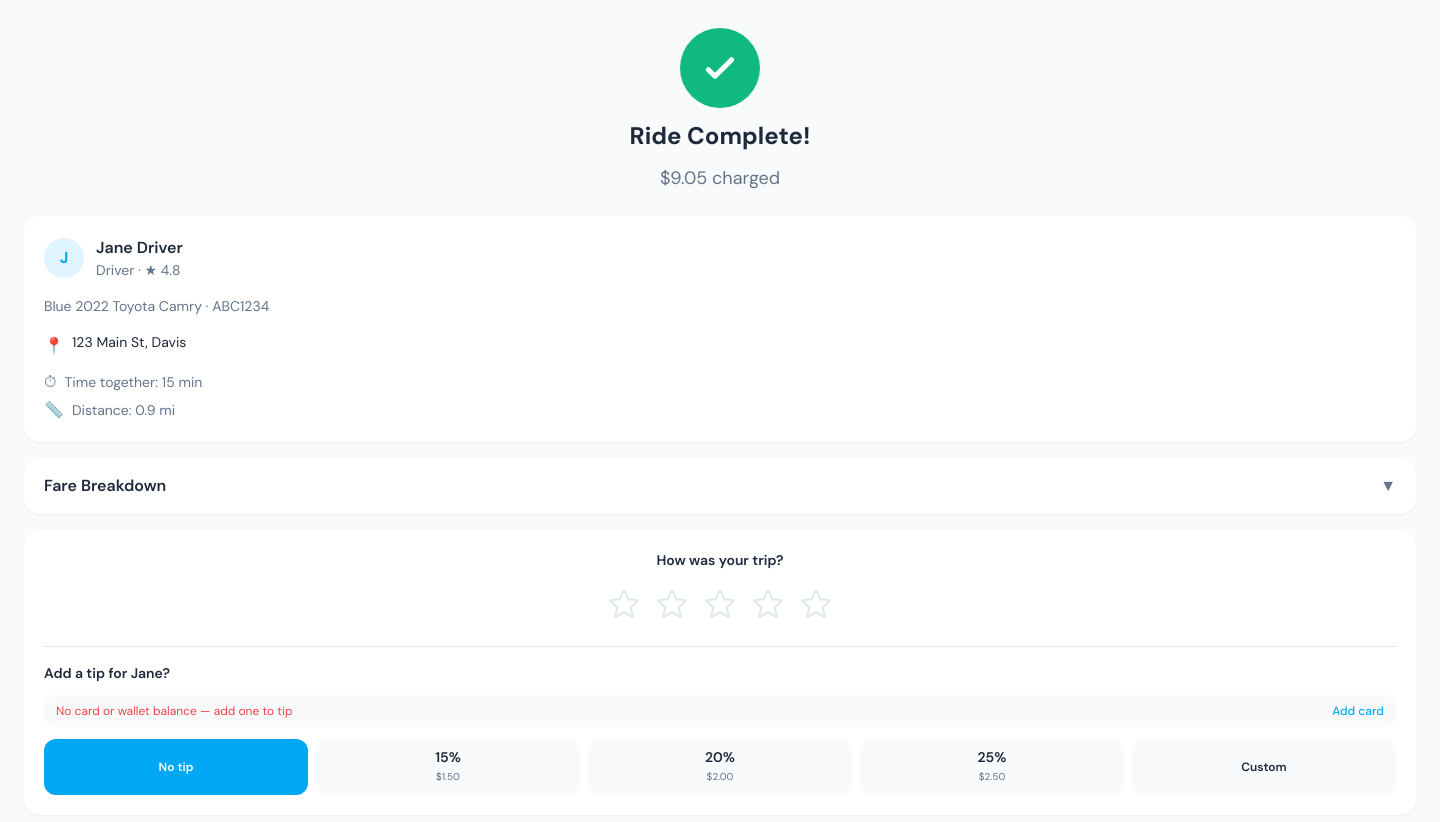
Test: RideSummaryPage › Rider view › enables Submit button once stars are picked
Expected: the element with test id "star-row" is shown, [602, 582, 838, 626]
Click the button with test id "star-5": coordinates (816, 604) [794, 582, 838, 626]
(page scrolled)
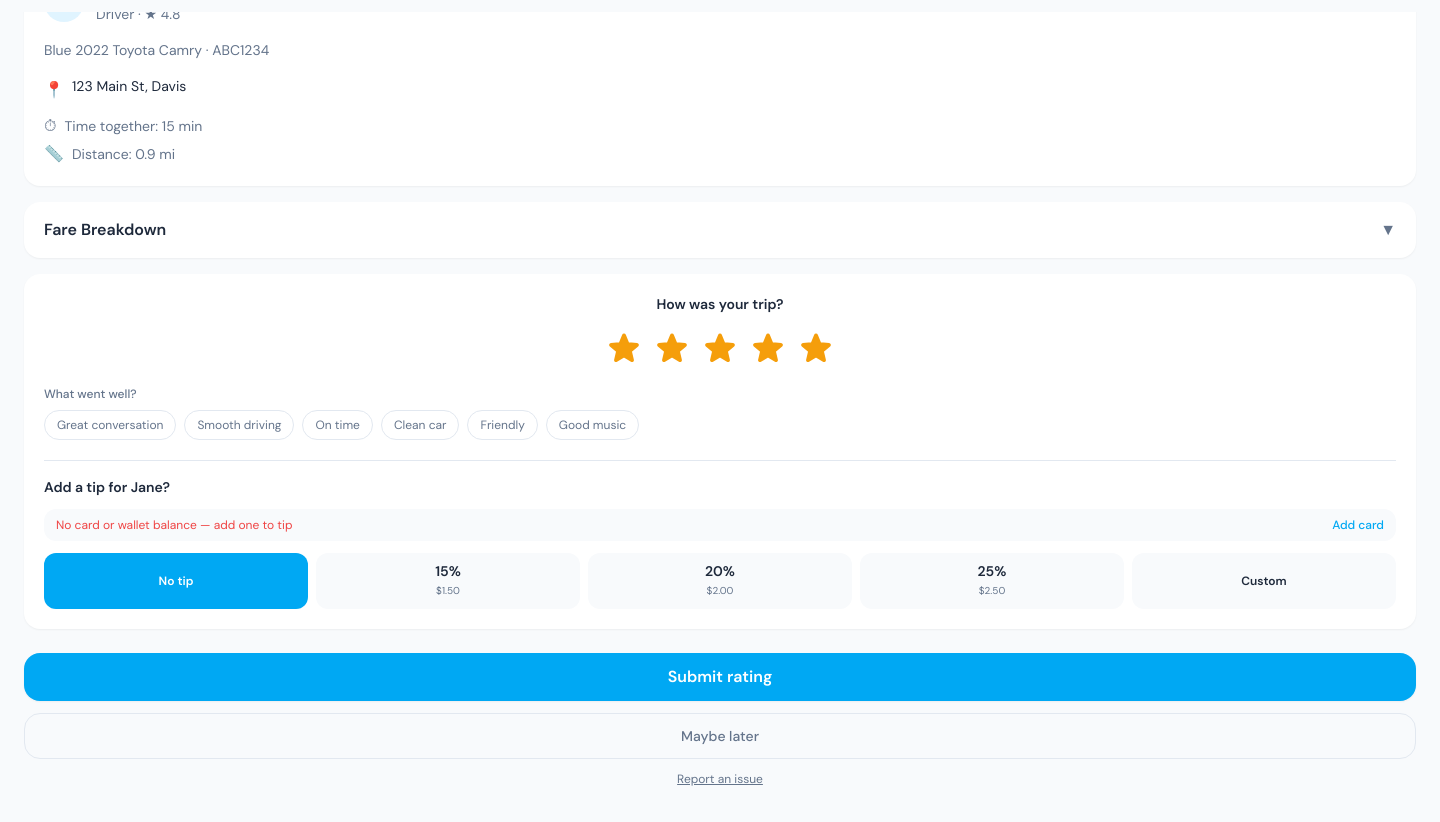
Expected: the button with test id "submit-rating" is enabled, [24, 653, 1416, 701]
